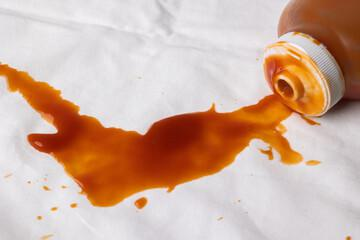gun: (0, 94, 274, 208), (275, 119, 324, 169), (0, 55, 59, 92), (41, 232, 57, 239), (345, 234, 351, 239), (35, 216, 43, 219)
